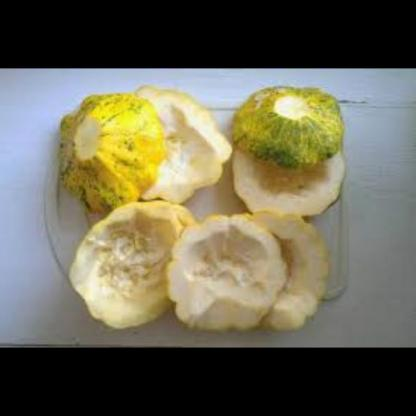squash-patisson: (59, 192, 185, 333), (113, 81, 232, 210), (52, 88, 161, 224), (165, 208, 281, 335), (226, 135, 347, 219), (233, 82, 350, 164), (254, 204, 327, 331)
